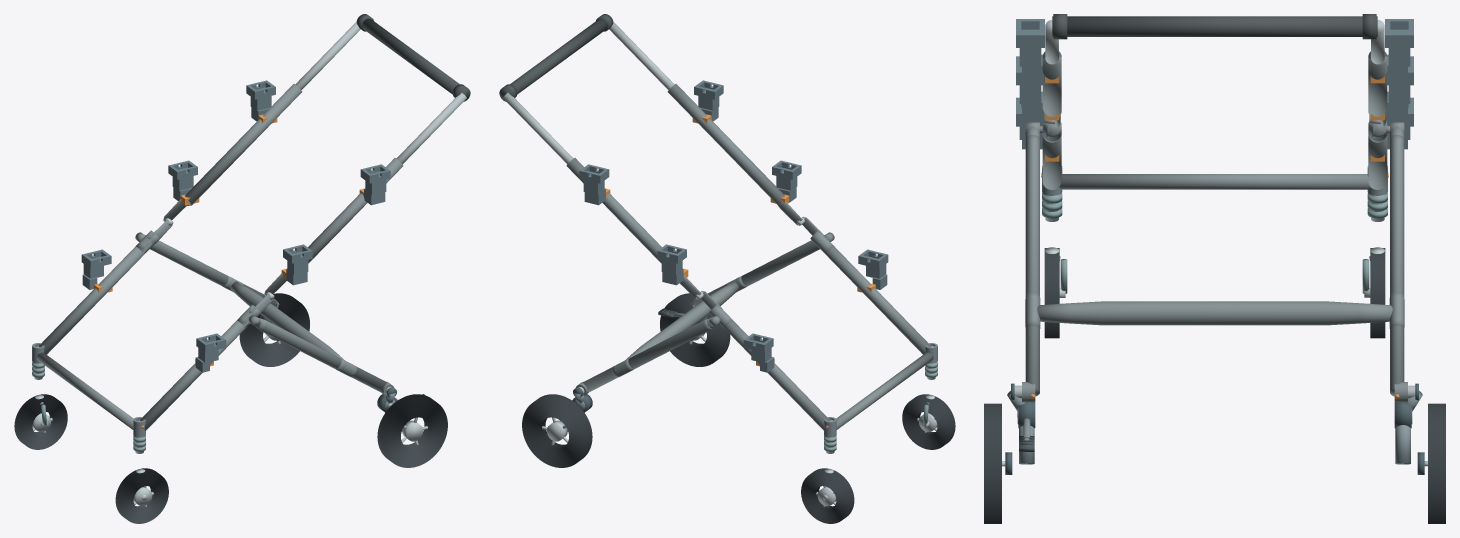
Rendered from w650_state1_wheel_S.glb.
3 renders of one model, left to right at view 1: azimuth 30°, elevation 25°; view 2: azimuth 150°, elevation 25°; view 3: azimuth 270°, elevation 25°, orthographic. The views are drawn at different scales.
Parts seen in each view (by area): view 1: RL_tire.008, RR_tire.008, FL_tire.008, FR_tire.008, main_upper_1.009, main_lower_1.009, round_handle.008, V46_rear_leg_-1.009, V46_rearbar.009, main_lower_-1.009, front_fixed_round_tube.008, main_upper_-1.009 (+9 smaller); view 2: RR_tire.008, RL_tire.008, FR_tire.008, FL_tire.008, main_upper_-1.009, main_lower_-1.009, round_handle.008, V46_rear_leg_1.009, V46_rearbar.009, main_lower_1.009, front_fixed_round_tube.008, main_upper_1.009 (+9 smaller); view 3: V46_rearbar.009, round_handle.008, front_fixed_round_tube.008, V46_rear_leg_1.009, V46_rear_leg_-1.009, RL_tire.008, RR_tire.008, Universal_Cabin_Receiver_H_1, Universal_Cabin_Receiver_H_-1, FL_tire.008, FR_tire.008, Universal_Cabin_Receiver_M_1 (+6 smaller).
Boxes of the visible parts, box(x1,y1,x2,y2) form: RL_tire.008: box(377, 394, 447, 467); RR_tire.008: box(239, 293, 309, 366); FL_tire.008: box(115, 468, 168, 523); FR_tire.008: box(14, 394, 67, 449); main_upper_1.009: box(185, 84, 302, 204); main_lower_1.009: box(39, 243, 151, 354); round_handle.008: box(362, 18, 469, 99); V46_rear_leg_-1.009: box(257, 319, 387, 392); V46_rearbar.009: box(230, 281, 344, 360); main_lower_-1.009: box(140, 320, 248, 430); front_fixed_round_tube.008: box(36, 352, 133, 429); main_upper_-1.009: box(308, 158, 403, 263); RR_tire.008: box(522, 394, 592, 467); RL_tire.008: box(660, 293, 730, 366); FR_tire.008: box(801, 468, 854, 523); FL_tire.008: box(902, 394, 955, 449); main_upper_-1.009: box(667, 84, 784, 204); main_lower_-1.009: box(818, 243, 930, 354); round_handle.008: box(500, 18, 607, 99); V46_rear_leg_1.009: box(582, 319, 712, 392); V46_rearbar.009: box(625, 281, 739, 360); main_lower_1.009: box(721, 320, 829, 430); front_fixed_round_tube.008: box(836, 352, 933, 429); main_upper_1.009: box(566, 158, 661, 263); V46_rearbar.009: box(1037, 301, 1392, 325); round_handle.008: box(1052, 16, 1377, 36); front_fixed_round_tube.008: box(1059, 174, 1370, 189); V46_rear_leg_1.009: box(1390, 135, 1404, 396); V46_rear_leg_-1.009: box(1025, 135, 1039, 396); RL_tire.008: box(984, 403, 1001, 523); RR_tire.008: box(1428, 403, 1445, 523); Universal_Cabin_Receiver_H_1: box(1385, 19, 1413, 83); Universal_Cabin_Receiver_H_-1: box(1016, 19, 1044, 83); FL_tire.008: box(1044, 248, 1059, 338); FR_tire.008: box(1370, 248, 1385, 338); Universal_Cabin_Receiver_M_1: box(1385, 56, 1413, 120).
Bounding box in the file's own units: 1.09 × 1.05 × 0.766.
